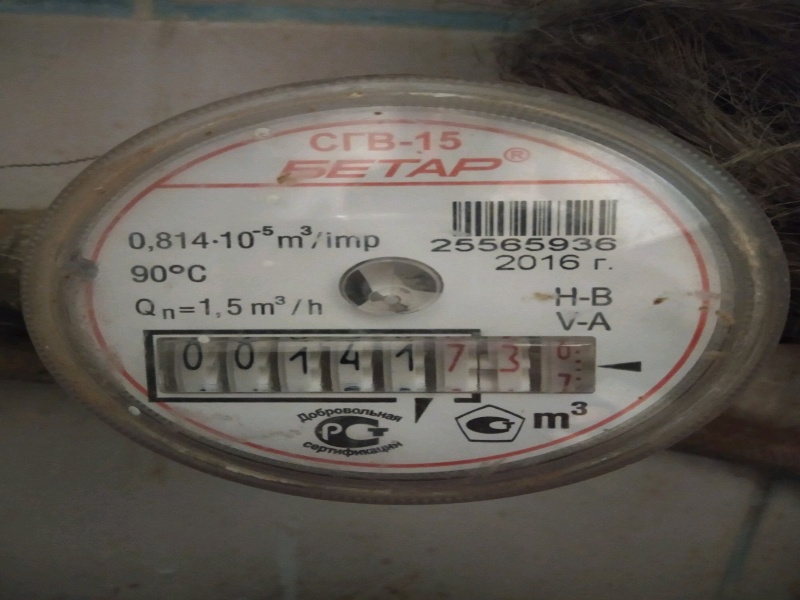meter: (166, 334, 586, 392)
